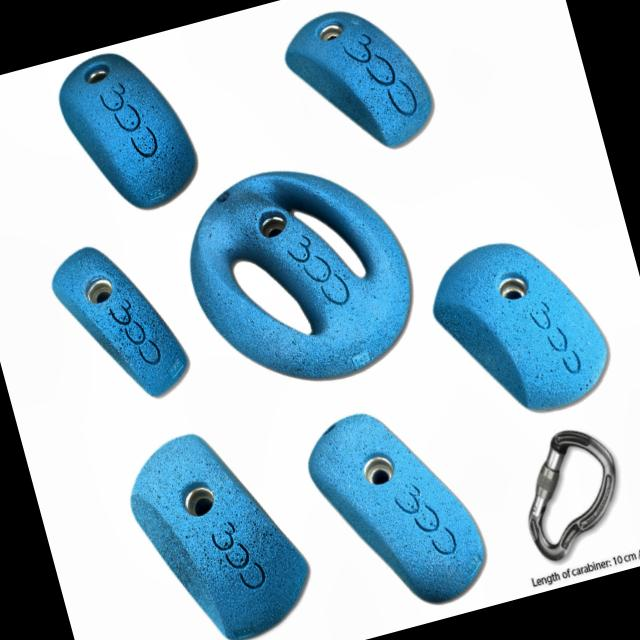Hold: (162, 143, 438, 409), (292, 390, 510, 632), (113, 410, 330, 640), (416, 212, 616, 426), (43, 223, 204, 418), (277, 0, 450, 173), (46, 42, 209, 220)
